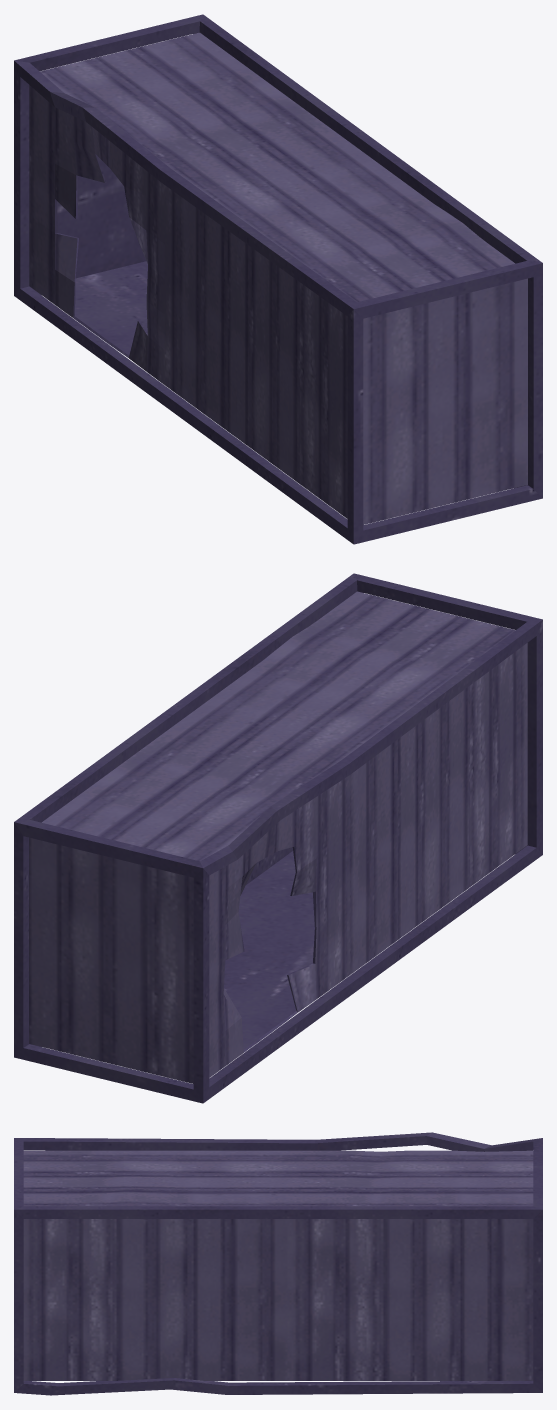
File: traincar4.fbx
The picture shows the model from 3 angles, top to bottom: view 1: azimuth 30°, elevation 25°; view 2: azimuth 150°, elevation 25°; view 3: azimuth 270°, elevation 25°; orthographic projection. The views are drawn at different scales.
Visible parts, largest first — view 1: Cube.003, Cube, Cube.004; view 2: Cube.003, Cube, Cube.004; view 3: Cube.003, Cube.
Part boxes in pixels (bbox=[...]): Cube.003: bbox=[29, 32, 527, 524]; Cube: bbox=[14, 14, 542, 544]; Cube.004: bbox=[55, 154, 147, 357]; Cube.003: bbox=[29, 591, 527, 1083]; Cube: bbox=[14, 573, 542, 1103]; Cube.004: bbox=[224, 847, 316, 1052]; Cube.003: bbox=[23, 1150, 533, 1380]; Cube: bbox=[14, 1132, 542, 1395].
Bounding box in the file's own units: 543 × 661 × 1665.
